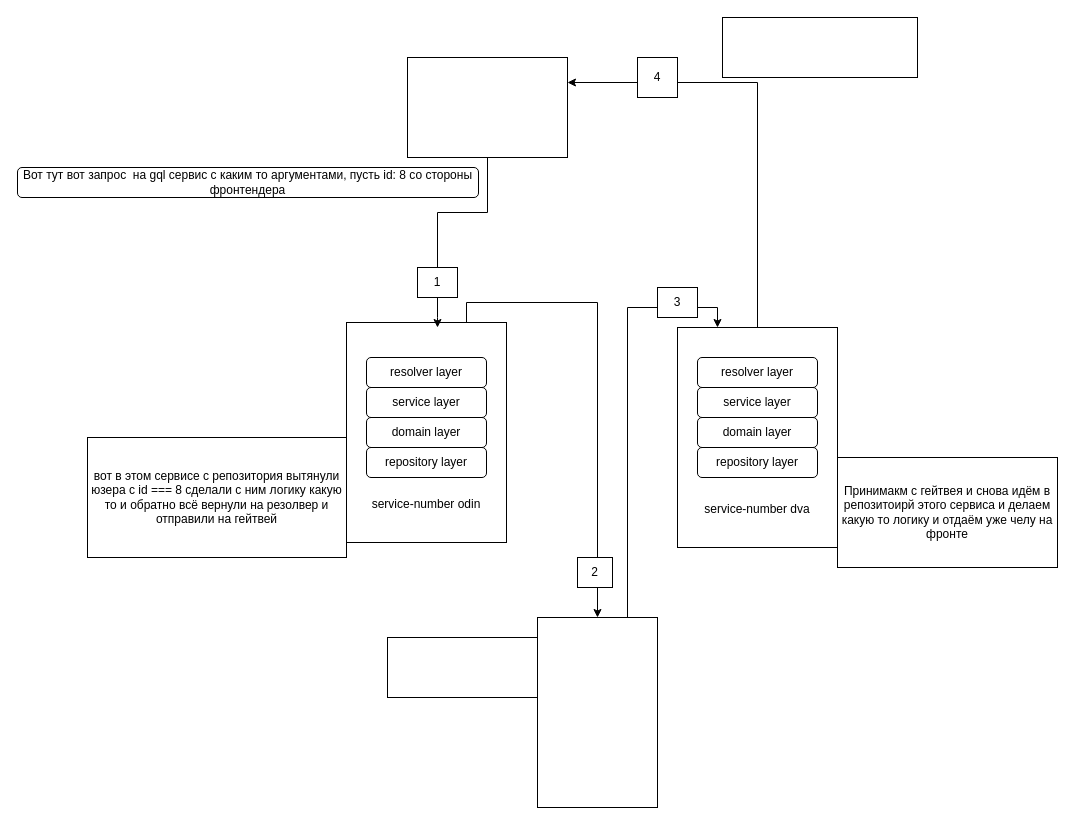
The diagram is 1075 pixels wide and 825 high, and some of its shapes have lost their labels. Here are the shapes that lost their labels. From the top down, the centre of each, then its label:
(x=820, y=47): А это респонс фронтедера
(x=487, y=107): фронтендер какой то
(x=462, y=667): Дальше с гейтвея перенаправляем на сервис намбер два
(x=597, y=712): service vmeste s Gateway
